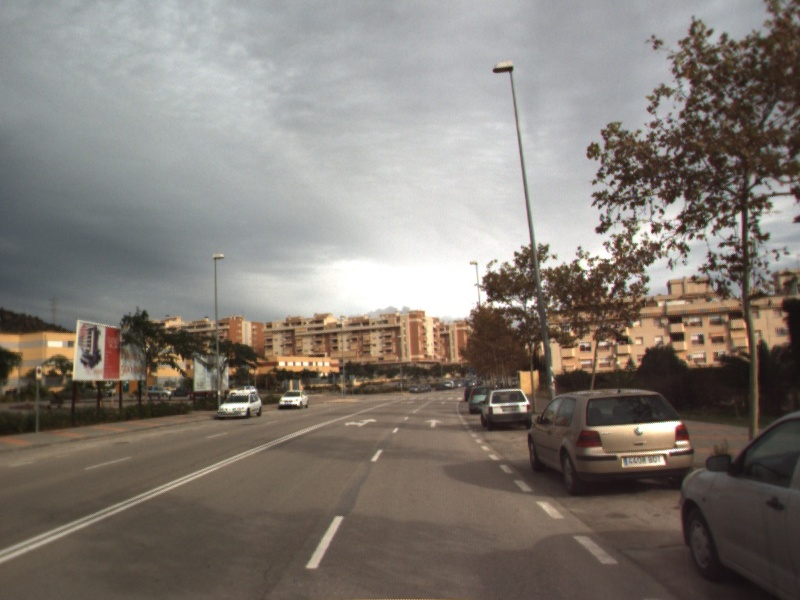STRAIGHT: (423, 416, 445, 429)
STRAIGHT_LEFT: (342, 416, 379, 429)
